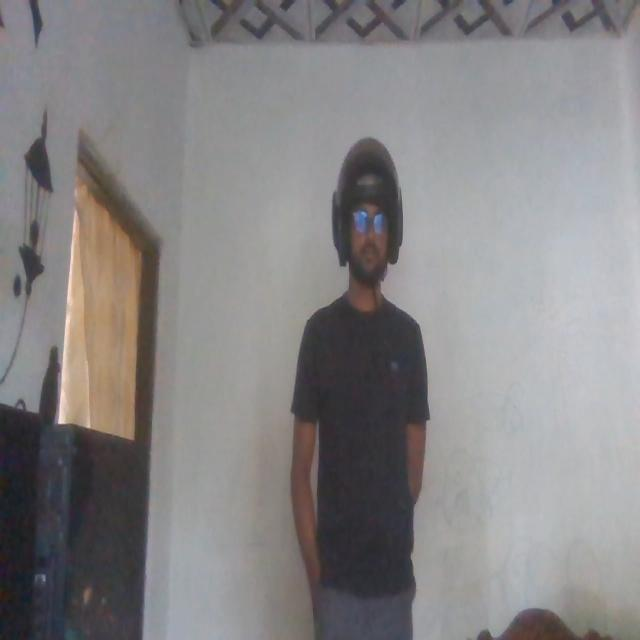Helmet_Wearer: (328, 136, 408, 319)
Person: (292, 138, 429, 640)
